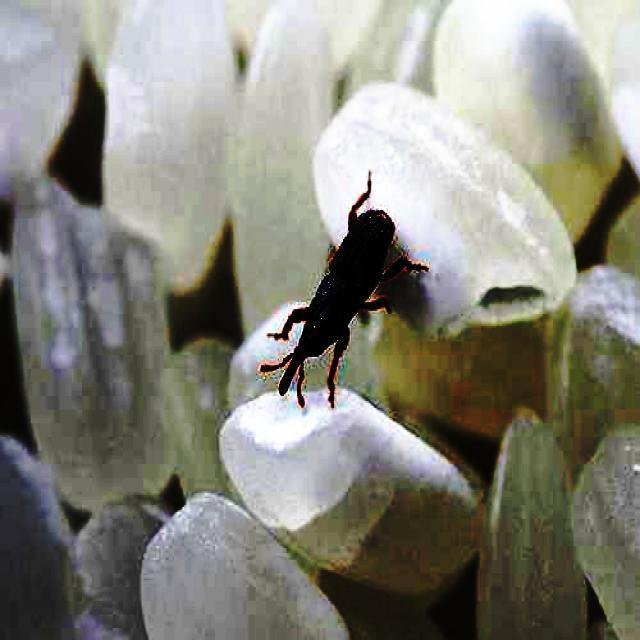rice-bug: (270, 169, 414, 411)
